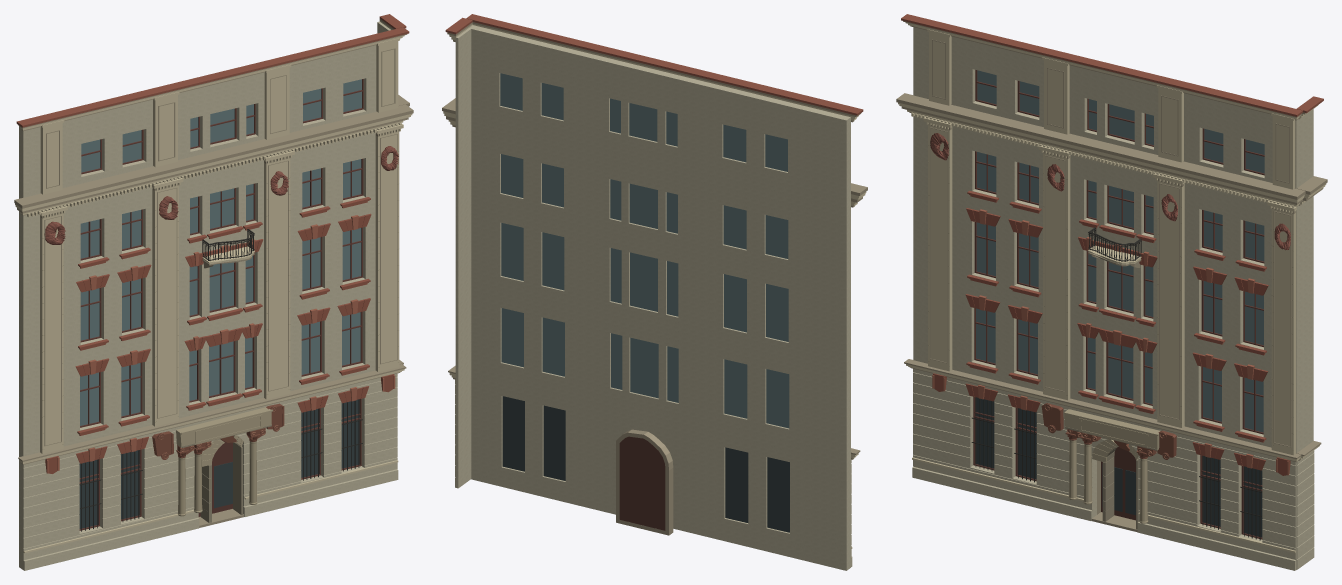
Rendered from huangpu-shanghai-tramways-suzhou-road-front-lod.glb.
3 renders of one model, left to right at view 1: azimuth 30°, elevation 25°; view 2: azimuth 150°, elevation 25°; view 3: azimuth 330°, elevation 25°, orthographic. The views are drawn at different scales.
Visible parts, largest first — view 1: 英商上海电车公司大楼临河立面与柱廊入口; view 2: 英商上海电车公司大楼临河立面与柱廊入口; view 3: 英商上海电车公司大楼临河立面与柱廊入口.
Part boxes in pixels (x1,y1,x2,y2): 英商上海电车公司大楼临河立面与柱廊入口: [14, 14, 413, 570]; 英商上海电车公司大楼临河立面与柱廊入口: [442, 14, 867, 570]; 英商上海电车公司大楼临河立面与柱廊入口: [896, 14, 1327, 570].
Size of the model in its own units: 19.74 by 21.63 by 2.49.
Materials: 18 (1 with a texture image).
